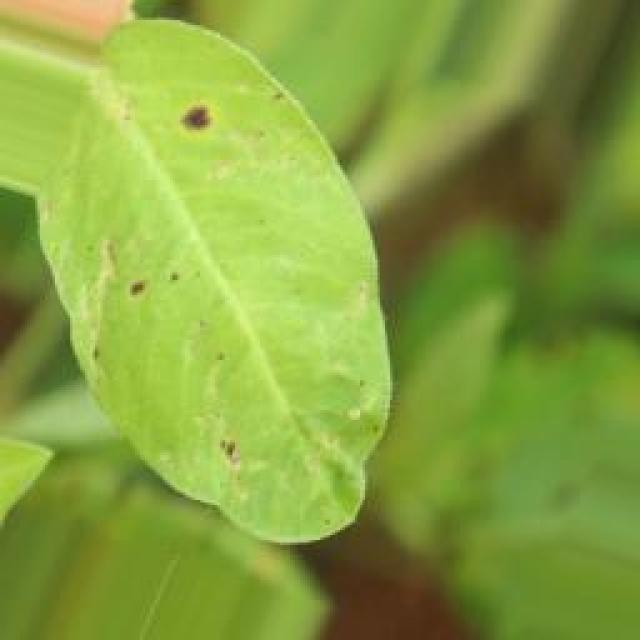Sigatoka: (120, 231, 199, 350), (175, 78, 258, 177), (206, 399, 251, 484)
